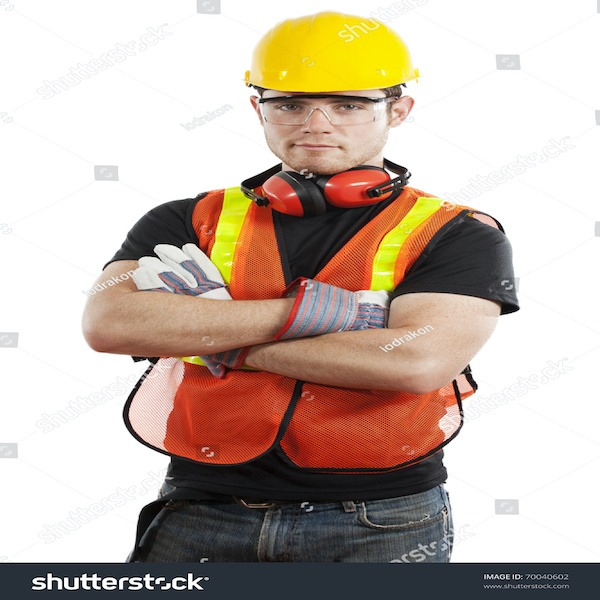helmet: (244, 14, 419, 96)
vest: (188, 190, 466, 463)
